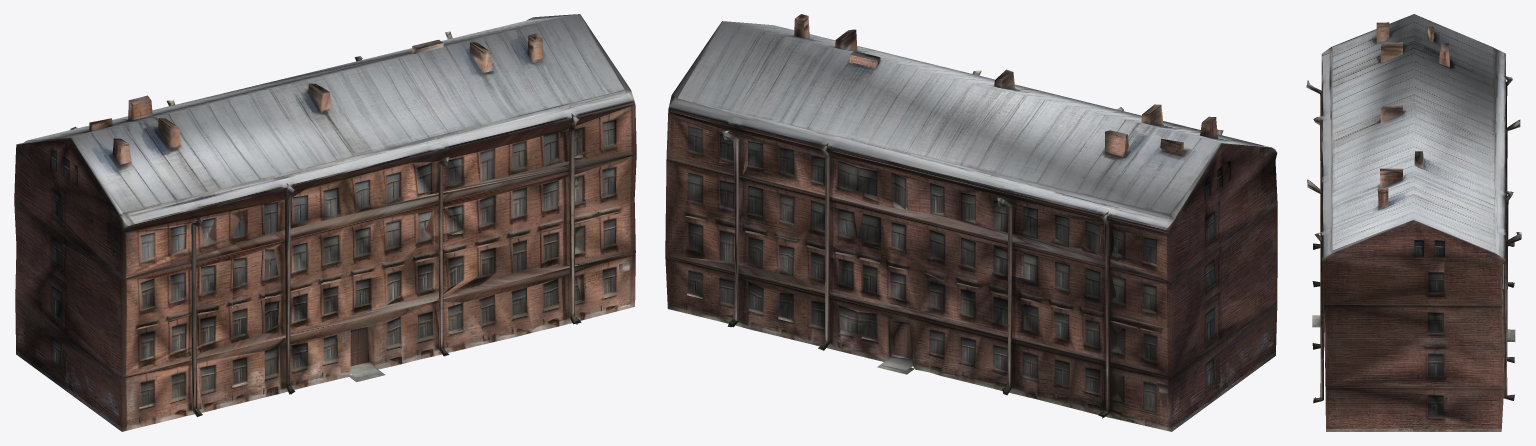
File: spb_r8.glb
3 renders of one model, left to right at view 1: azimuth 30°, elevation 25°; view 2: azimuth 150°, elevation 25°; view 3: azimuth 270°, elevation 25°, orthographic. The views are drawn at different scales.
Visible parts, largest first — view 1: tripo_node_8d61d7f5; view 2: tripo_node_8d61d7f5; view 3: tripo_node_8d61d7f5.
Boxes of the visible parts, x1,y1,x2,y2 form: tripo_node_8d61d7f5: (14,14,636,431); tripo_node_8d61d7f5: (665,14,1277,431); tripo_node_8d61d7f5: (1306,14,1521,431).
Size of the model in its own units: 0.992 by 0.4823 by 0.4332.
1 material, 1 textured.
